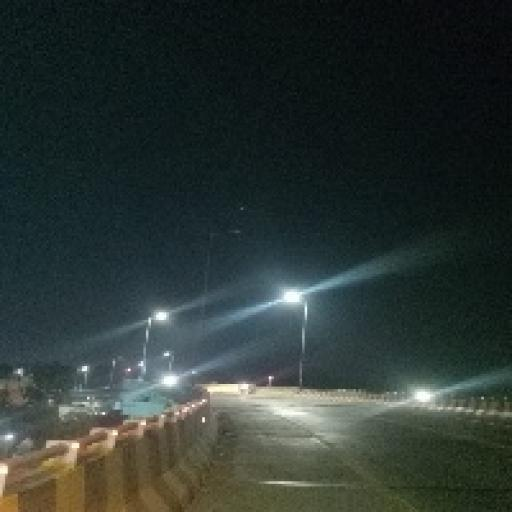Working: (278, 280, 309, 313), (150, 307, 170, 327), (162, 348, 174, 360)
